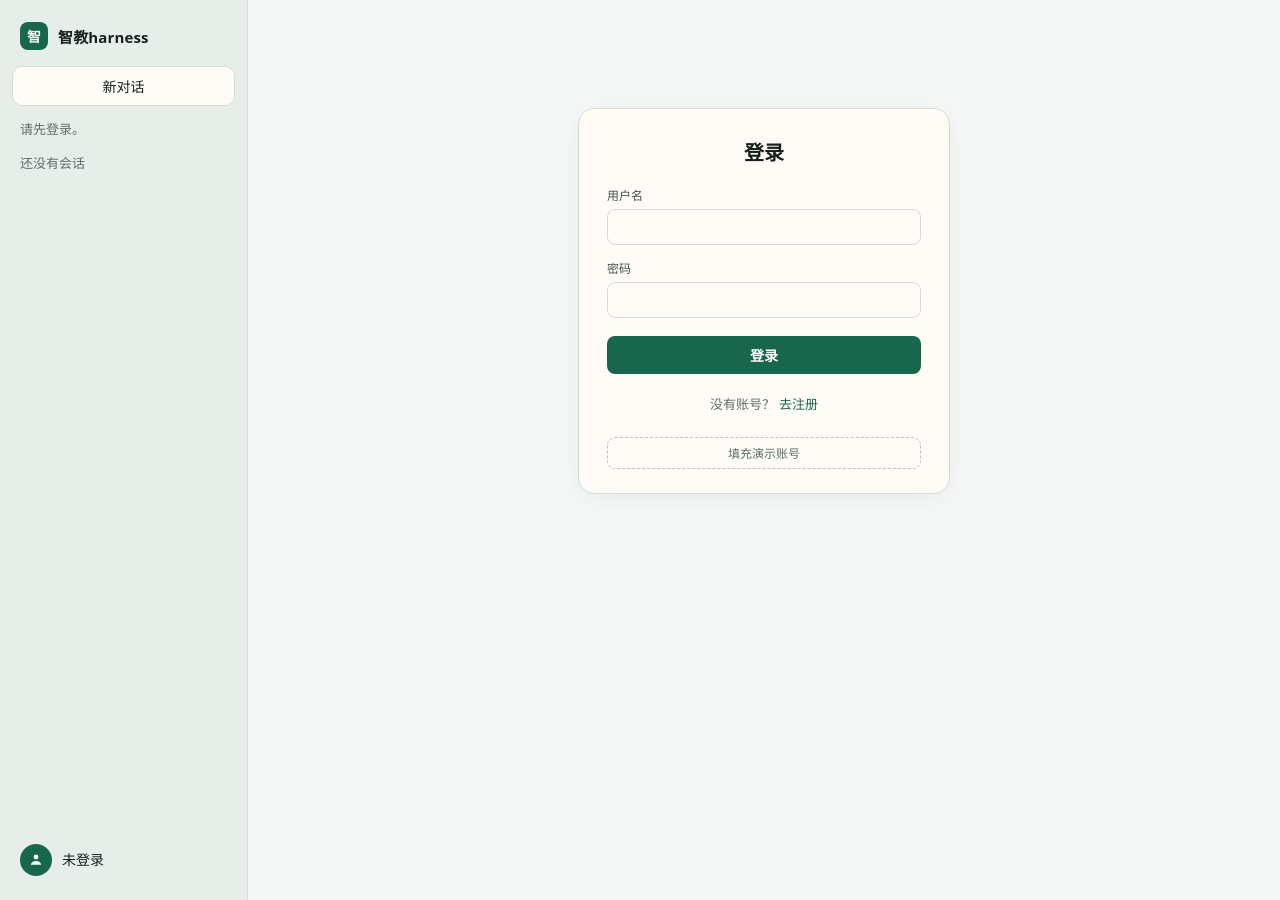
it: 工作台 › 登录界面：一键填充演示账号（只填充不登录）
Step 1. Click the button "填充演示账号" → [764, 453], box [607, 437, 921, 469]
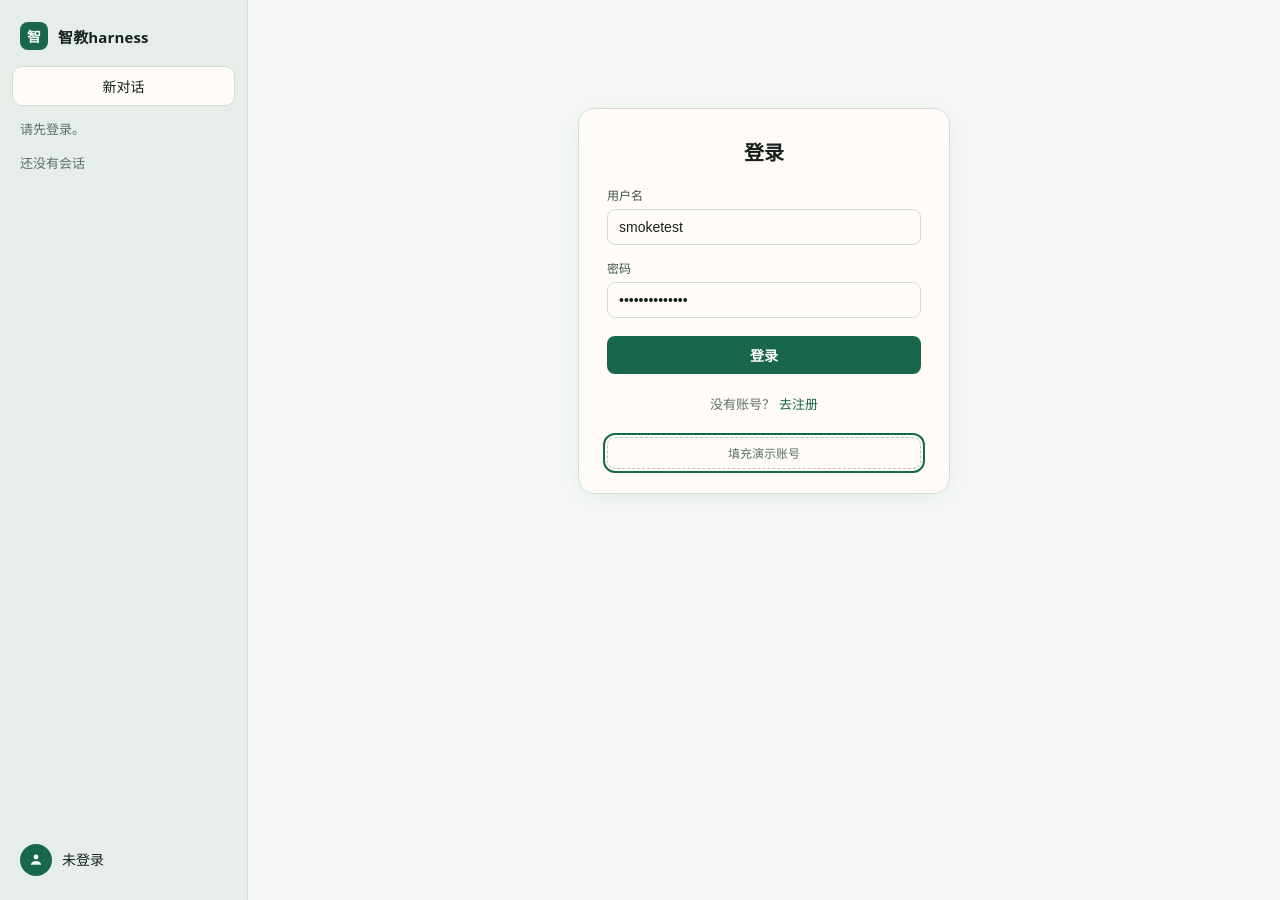
expect the button "登录" is shown: met, box [607, 336, 921, 374]
expect the field labelled "用户名" holds "smoketest": met, box [607, 209, 921, 245]
expect the password field labelled "密码" holds "smoke-test-123": met, box [607, 282, 921, 318]
